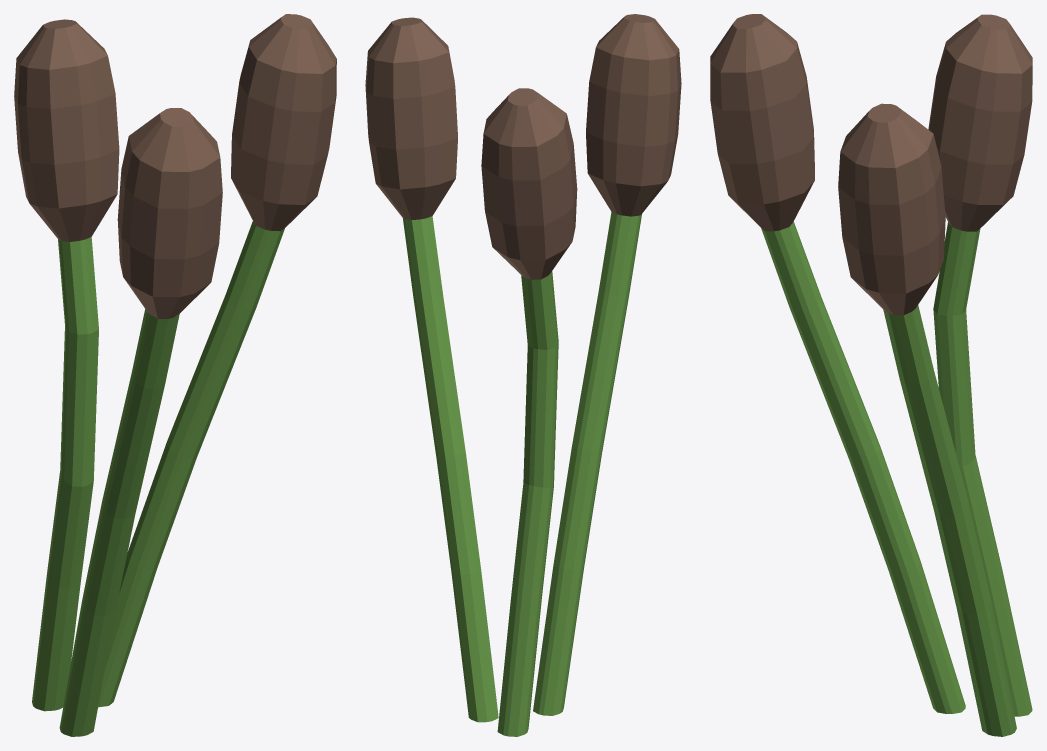
File: Grass1.5.fbx
The picture shows the model from 3 angles, left to right: view 1: azimuth 30°, elevation 25°; view 2: azimuth 150°, elevation 25°; view 3: azimuth 270°, elevation 25°; orthographic projection. The views are drawn at different scales.
Parts seen in each view (by area): view 1: Grass1.5; view 2: Grass1.5; view 3: Grass1.5.
Boxes of the visible parts, left/top/right/bottom form: Grass1.5: left=14, top=14, right=336, bottom=736; Grass1.5: left=365, top=14, right=681, bottom=736; Grass1.5: left=710, top=14, right=1032, bottom=736.
Size of the model in its own units: 81.71 by 201 by 84.97.
